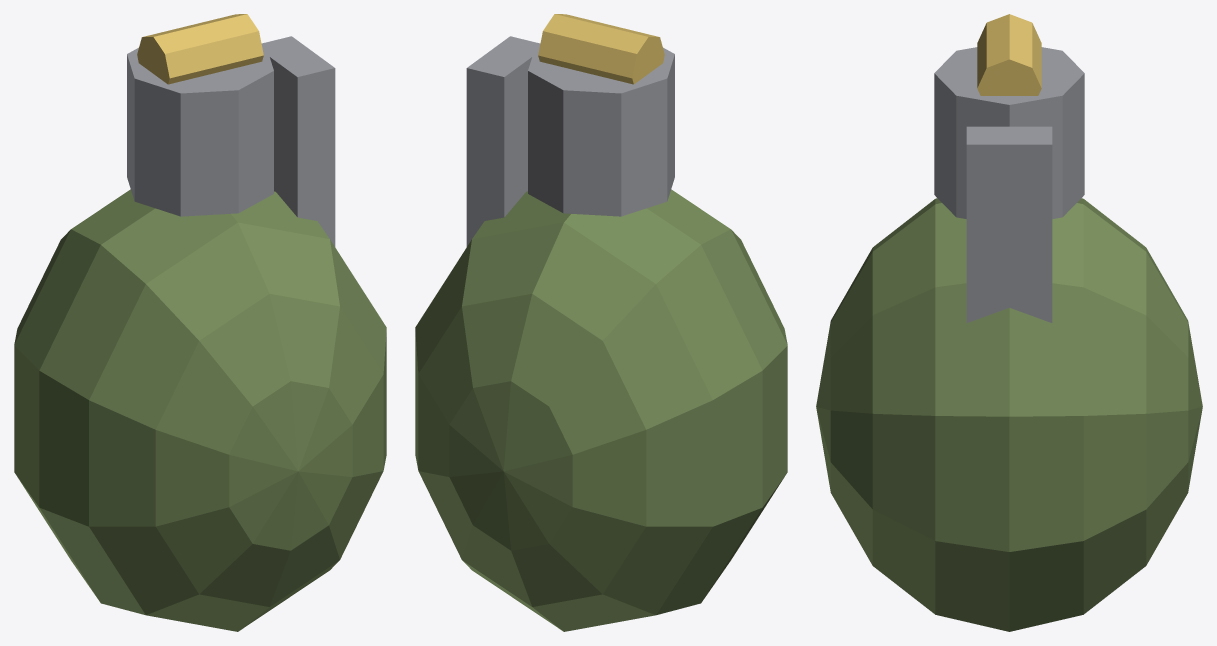
Rendered from weapon_grenade.glb.
The picture shows the model from 3 angles, left to right: view 1: azimuth 30°, elevation 25°; view 2: azimuth 150°, elevation 25°; view 3: azimuth 270°, elevation 25°; orthographic projection.
Parts seen in each view (by area): view 1: body; view 2: body; view 3: body.
Part boxes in pixels (x1,y1,x2,y2): body: [14, 14, 386, 631]; body: [415, 14, 787, 631]; body: [816, 14, 1202, 631].
Size of the model in its own units: 0.0685 by 0.121 by 0.072.
